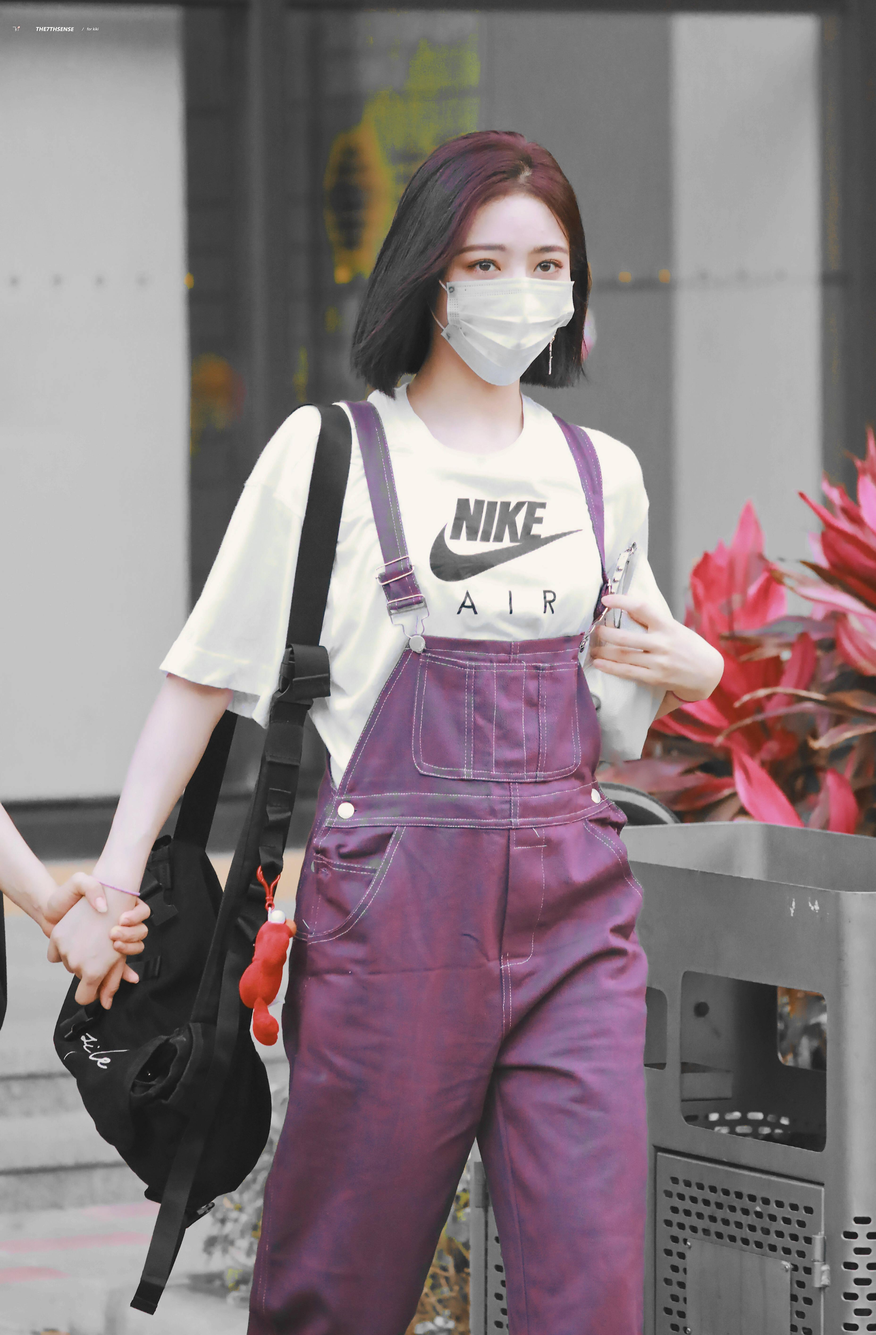OK: (442, 214, 572, 389)
